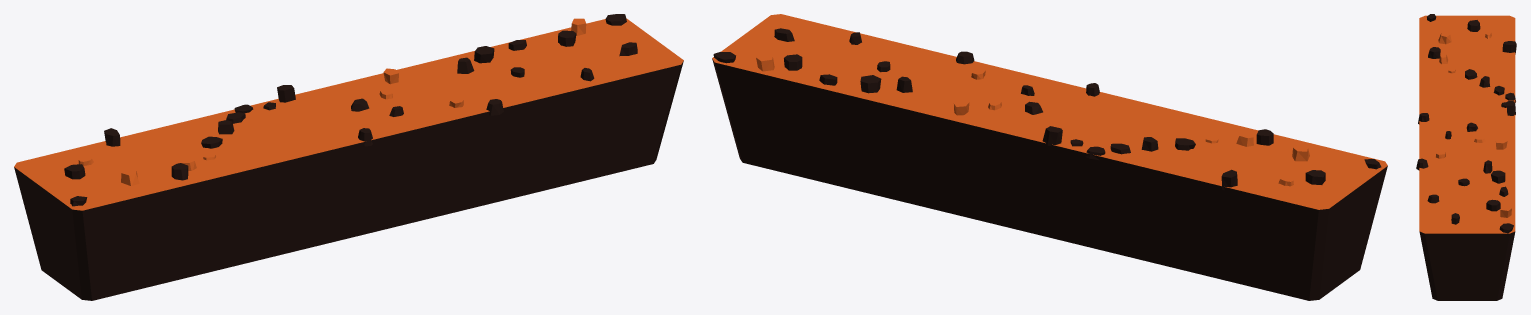
File: SM_Cook_BrazierCoals_01.fbx
3 views of the same model, side by side, from view 1: azimuth 30°, elevation 25°; view 2: azimuth 150°, elevation 25°; view 3: azimuth 270°, elevation 25° (orthographic). The views are drawn at different scales.
Parts seen in each view (by area): view 1: SM_Cook_BrazierCoals_01; view 2: SM_Cook_BrazierCoals_01; view 3: SM_Cook_BrazierCoals_01.
Boxes of the visible parts, x1=… form: SM_Cook_BrazierCoals_01: x1=14, y1=14, x2=683, y2=300; SM_Cook_BrazierCoals_01: x1=712, y1=14, x2=1387, y2=300; SM_Cook_BrazierCoals_01: x1=1416, y1=14, x2=1516, y2=300.
Size of the model in its own units: 1.34 by 0.2384 by 0.2614.
Materials: 1 (1 with a texture image).
